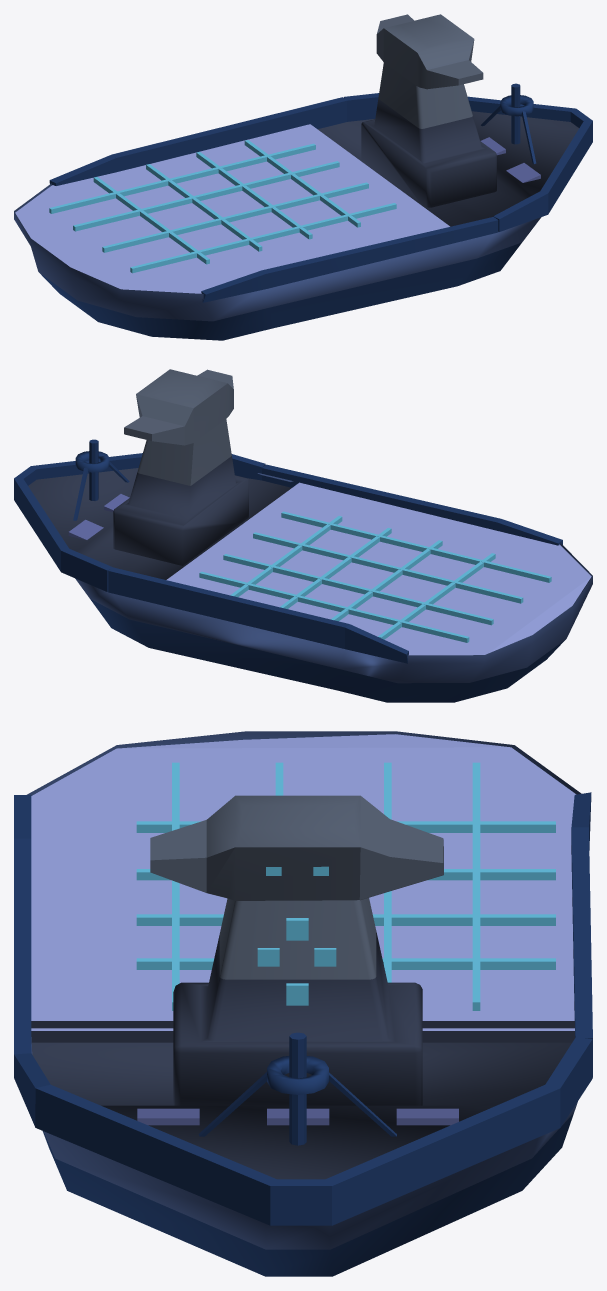
File: ContainerShipVertical2.fbx
3 renders of one model, top to bottom at view 1: azimuth 30°, elevation 25°; view 2: azimuth 150°, elevation 25°; view 3: azimuth 270°, elevation 25°, orthographic. The views are drawn at different scales.
Visible parts, largest first — view 1: Plane.002, Plane.001, Plane, Cube.017, Cube, Plane.008, Plane.005, Cube.009, Cube.002, Cube.003, Cube.008, Cube.018 (+5 smaller); view 2: Plane.002, Plane.001, Plane, Cube.017, Cube, Plane.008, Plane.005, Cube.003, Cube.008, Cube.009, Cube.002, Cube.014 (+5 smaller); view 3: Plane.002, Plane.001, Cube, Plane.005, Cube.017, Plane, Plane.008, Cube.018, Cube.010, Cube.009, Cube.014, Cylinder.001 (+7 smaller).
Boxes of the visible parts, <box> form: Plane.002: <box>15,124,449,293</box>; Plane.001: <box>49,93,592,302</box>; Plane: <box>14,183,541,321</box>; Cube.017: <box>361,99,496,207</box>; Cube: <box>376,14,483,128</box>; Plane.008: <box>39,242,521,340</box>; Plane.005: <box>318,111,578,226</box>; Cube.009: <box>49,143,315,213</box>; Cube.002: <box>73,161,339,231</box>; Cube.003: <box>102,182,368,252</box>; Cube.008: <box>130,203,396,273</box>; Cube.018: <box>196,151,312,239</box>; Plane.002: <box>166,482,591,655</box>; Plane.001: <box>14,453,562,663</box>; Plane: <box>75,473,592,683</box>; Cube.017: <box>113,456,248,565</box>; Cube: <box>124,369,233,485</box>; Plane.008: <box>90,599,565,702</box>; Plane.005: <box>28,468,291,579</box>; Cube.003: <box>253,532,523,603</box>; Cube.008: <box>281,511,551,582</box>; Cube.009: <box>199,571,469,642</box>; Cube.002: <box>223,554,493,625</box>; Cube.014: <box>378,553,495,639</box>; Plane.002: <box>31,734,576,1030</box>; Plane.001: <box>14,792,592,1225</box>; Cube: <box>150,795,443,979</box>; Plane.005: <box>31,1021,574,1179</box>; Cube.017: <box>173,932,422,1105</box>; Plane: <box>27,731,581,1249</box>; Plane.008: <box>42,1113,573,1276</box>; Cube.018: <box>136,914,555,925</box>; Cube.010: <box>136,958,555,969</box>; Cube.009: <box>472,762,480,1010</box>; Cube.014: <box>136,821,555,832</box>; Cylinder.001: <box>267,1056,328,1094</box>.
Bounding box in the file's own units: 455 × 161 × 232.
